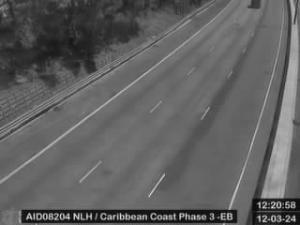vehicle: (251, 1, 261, 10)
